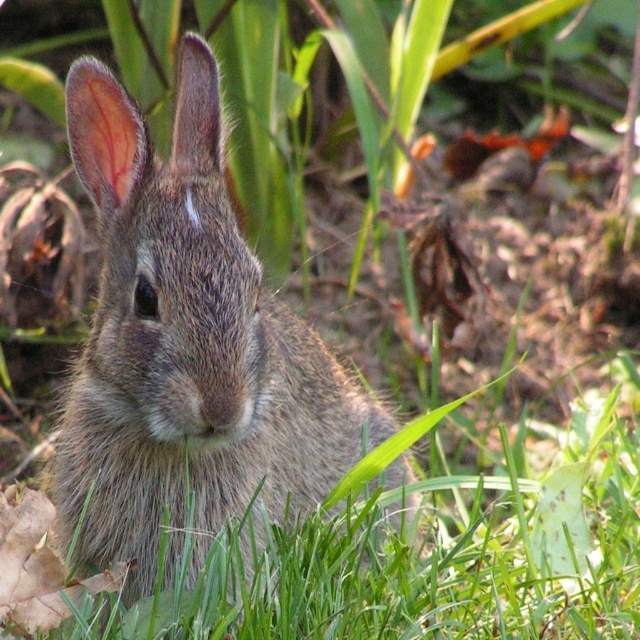Rabbit: (51, 30, 446, 614)
